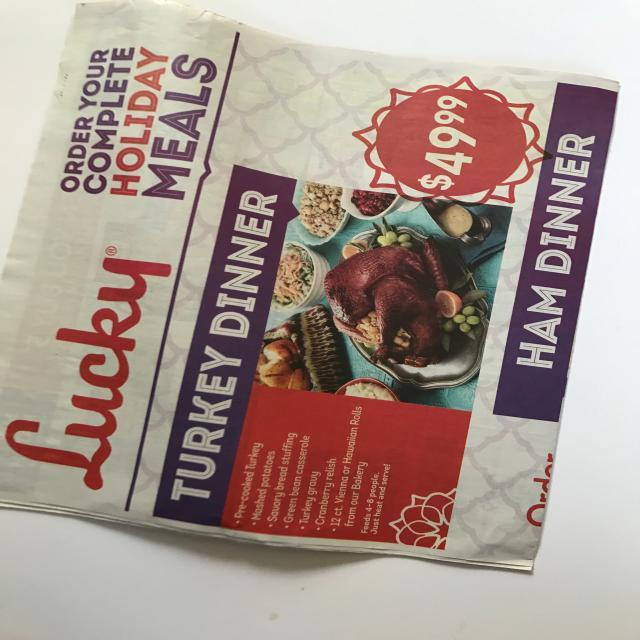paper: (0, 1, 620, 584)
